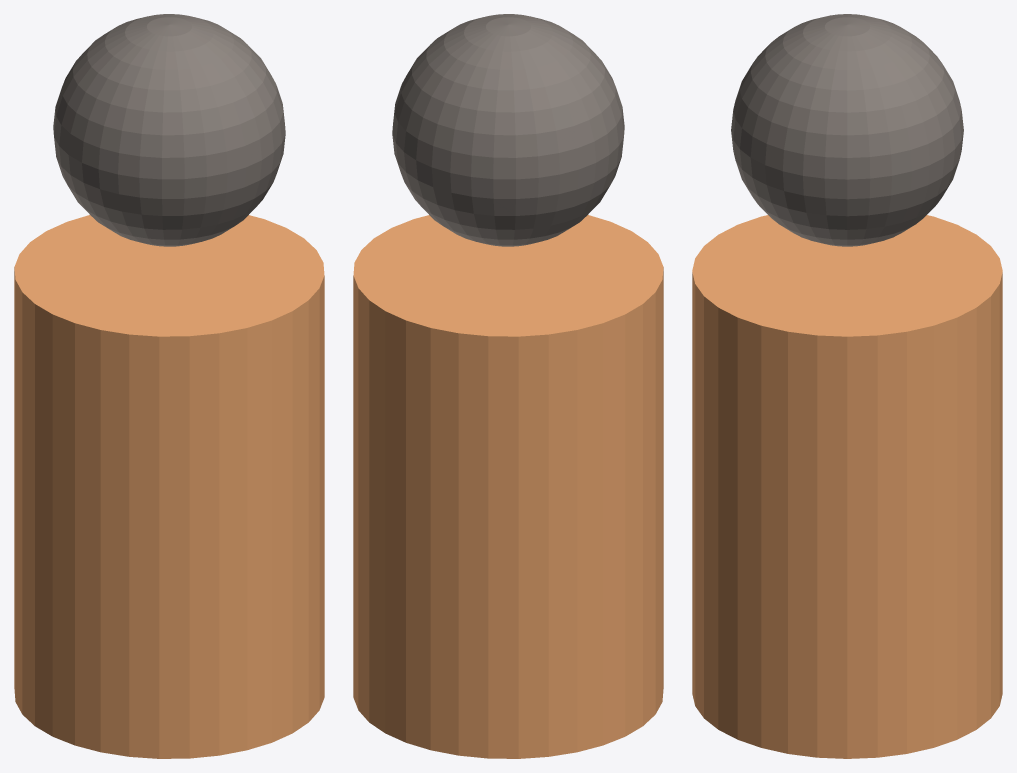
File: scout_unit.glb
3 views of the same model, side by side, from view 1: azimuth 30°, elevation 25°; view 2: azimuth 150°, elevation 25°; view 3: azimuth 270°, elevation 25° (orthographic).
Parts seen in each view (by area): view 1: Scout_Body, Scout_Head; view 2: Scout_Body, Scout_Head; view 3: Scout_Body, Scout_Head.
Part boxes in pixels (x1,y1,x2,y2): Scout_Body: [14, 215, 324, 758]; Scout_Head: [53, 14, 285, 246]; Scout_Body: [353, 215, 663, 758]; Scout_Head: [392, 14, 624, 246]; Scout_Body: [692, 215, 1002, 758]; Scout_Head: [731, 14, 963, 246].
Size of the model in its own units: 0.4 by 0.95 by 0.4.
